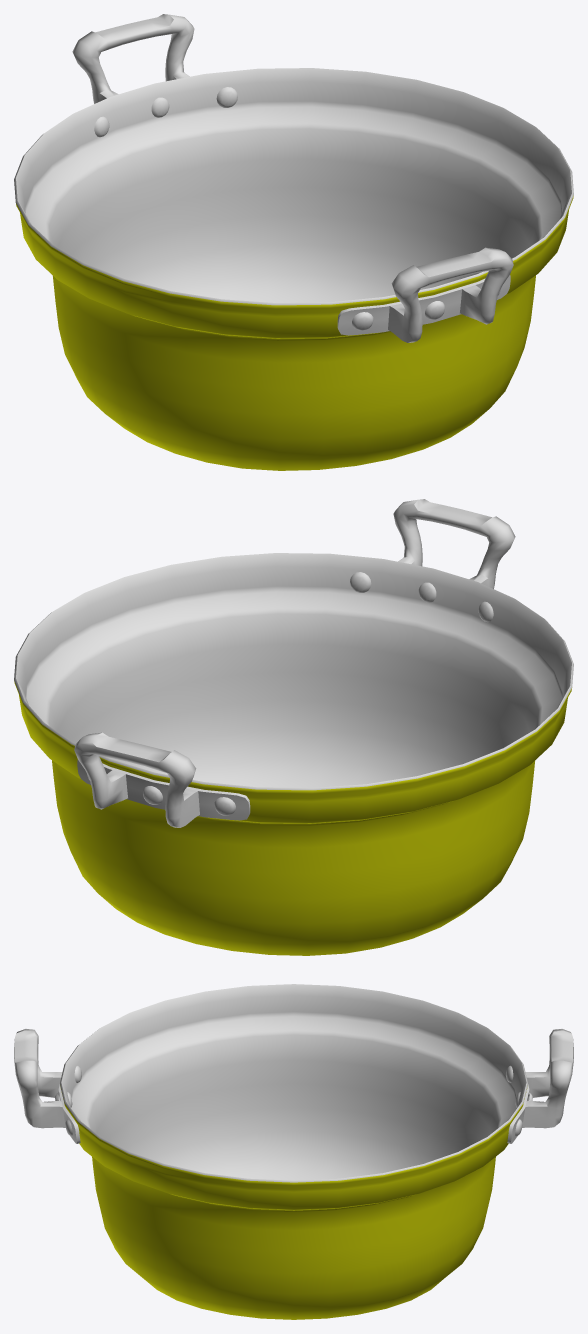
File: JapaneseMetalBasin.fbx
3 renders of one model, top to bottom at view 1: azimuth 30°, elevation 25°; view 2: azimuth 150°, elevation 25°; view 3: azimuth 270°, elevation 25°, orthographic. The views are drawn at different scales.
Visible parts, largest first — view 1: Basin; view 2: Basin; view 3: Basin.
Boxes of the visible parts, x1,y1,x2,y2 form: Basin: (14, 14, 573, 470); Basin: (14, 499, 573, 955); Basin: (14, 984, 573, 1319).
Bounding box in the file's own units: 37.25 × 19.39 × 44.54.
